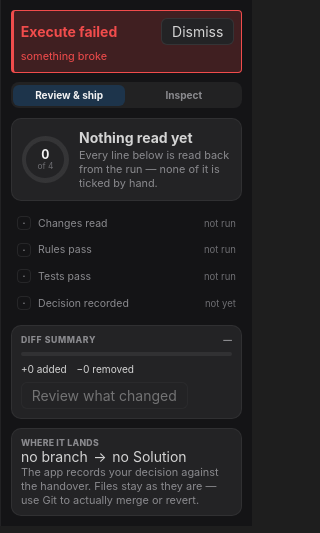
Test case: the failure box on the rail › stays until it is dismissed
Click the button with aria-label "Dismiss this failure": (198, 32) x1=161 y1=18 x2=234 y2=45
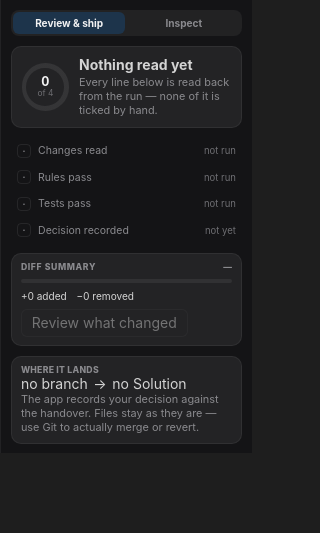
Now the message "Execute failed Dismiss something broke" is gone
